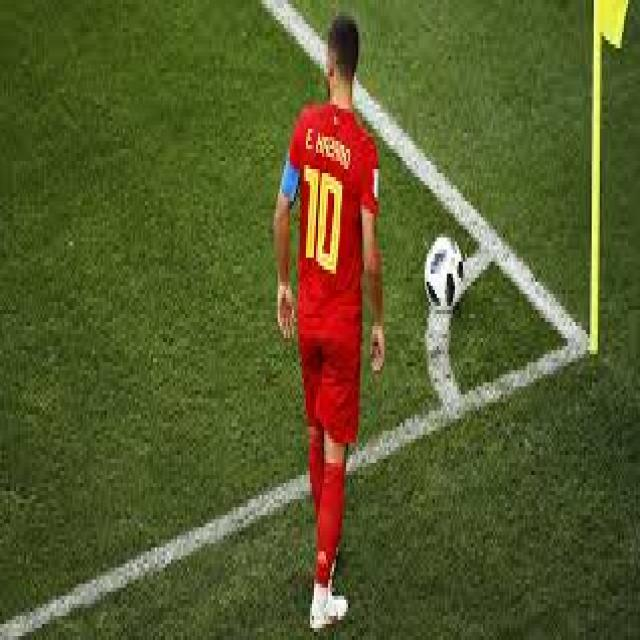corner-kick: (410, 117, 612, 446)
